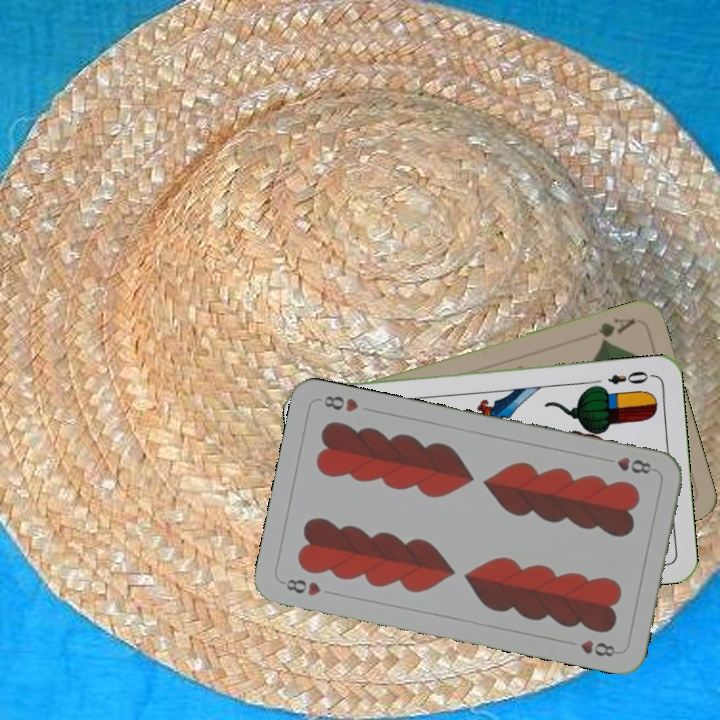EO: (604, 367, 656, 387)
GA: (594, 313, 638, 346)
H8: (599, 453, 654, 477), (278, 575, 324, 599)
